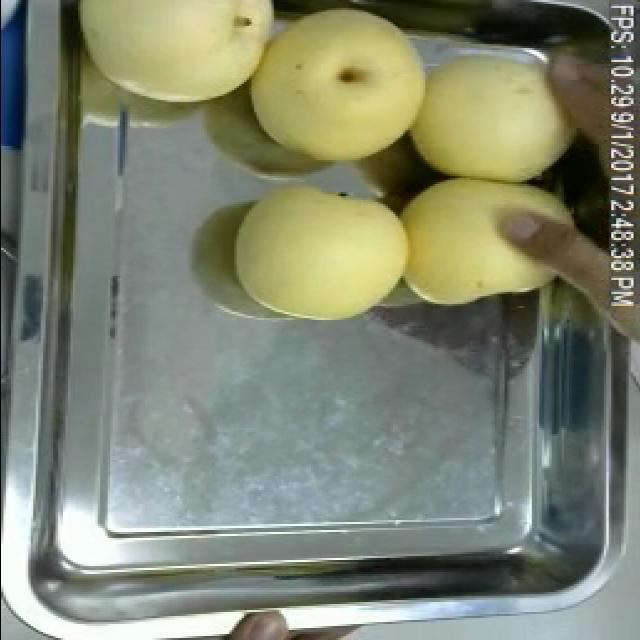Fruit: (238, 0, 439, 180), (387, 18, 593, 180), (380, 180, 610, 320), (226, 168, 417, 330), (67, 0, 288, 118), (206, 612, 312, 640)
